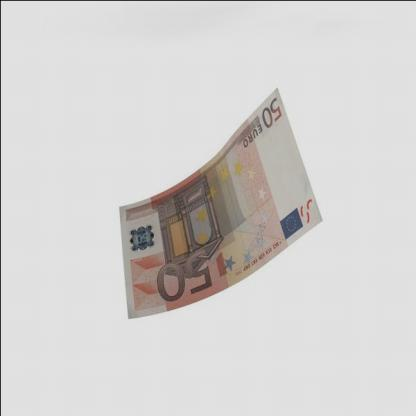euro_banknote: (86, 152, 344, 287)
